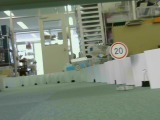speed_20: (108, 41, 130, 60)
